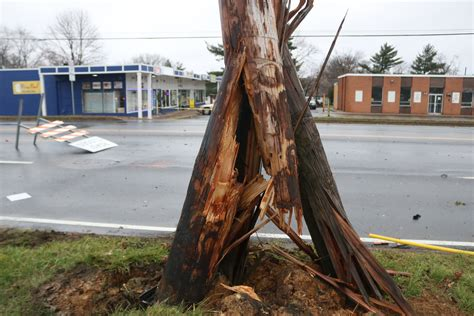pole: (223, 20, 472, 75)
